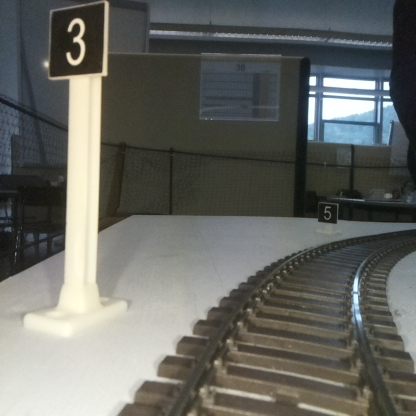black-info-3: (49, 3, 106, 330)
